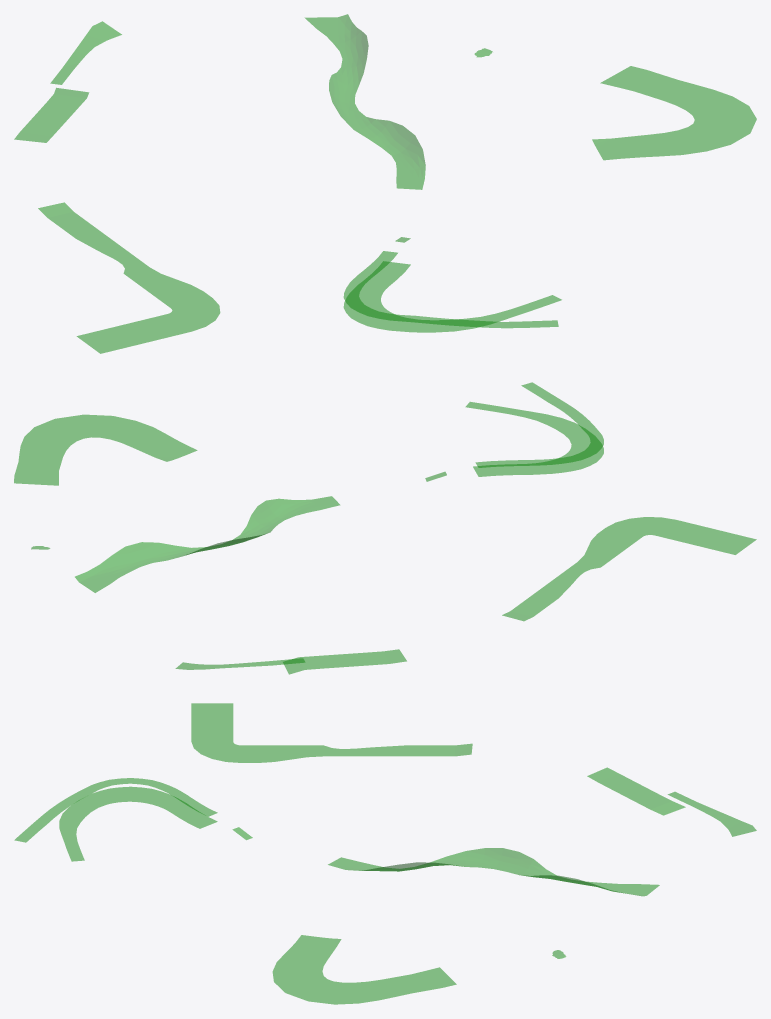
File: road_stone.obj
The picture shows the model from 3 angles, top to bottom: view 1: azimuth 30°, elevation 25°; view 2: azimuth 150°, elevation 25°; view 3: azimuth 270°, elevation 25°; orthographic projection. The views are drawn at different scales.
Bounding box in the file's own units: 698 × 34.54 × 710.
